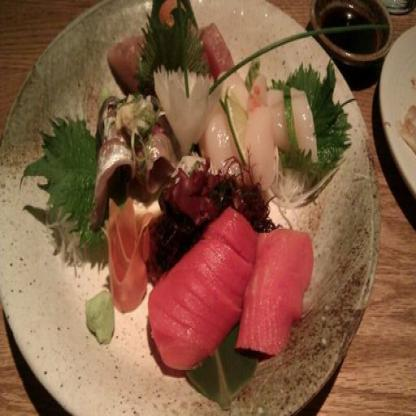tuna: (148, 213, 252, 367)
